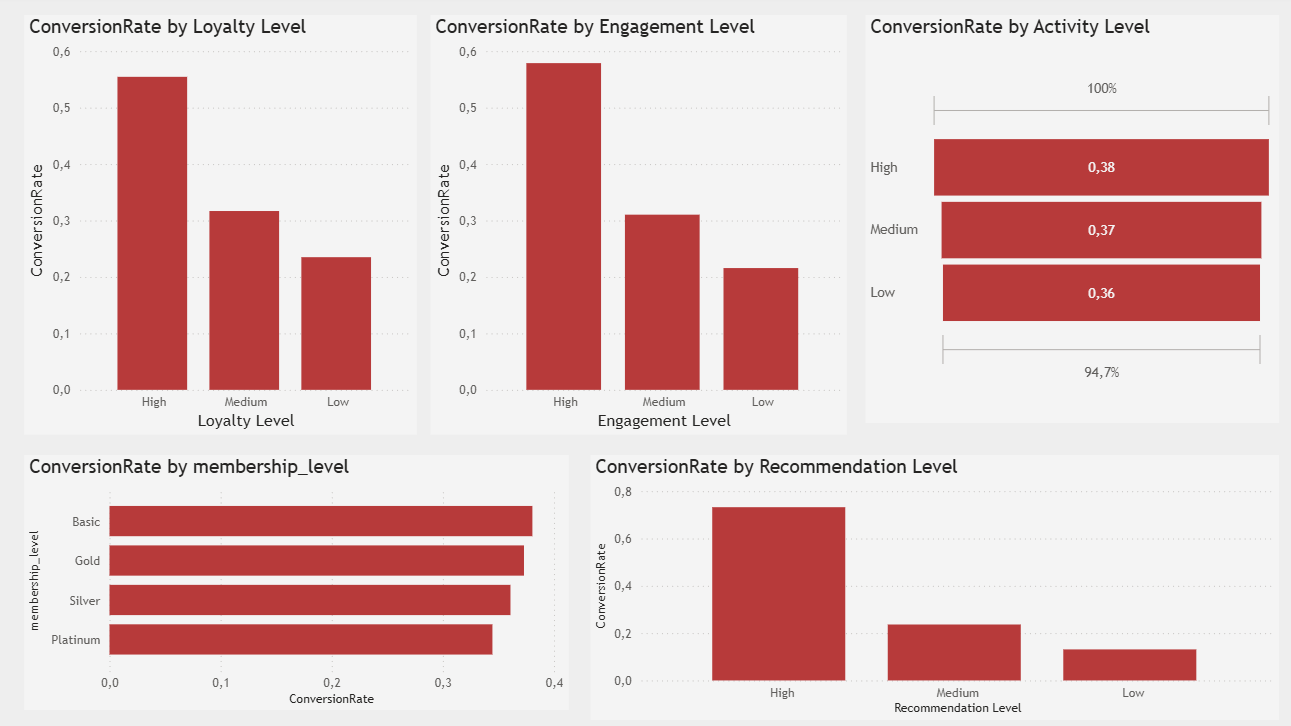

This screenshot's page, from the dashboard's own definition file:
{"tool":"powerbi","page":{"name":"Conversion Analysis","canvas":[1280,720],"ordinal":1},"visuals":[{"type":"clusteredColumnChart","fields":{"Category":["E-COMMERCE DATA.Engagement Level"],"Y":["E-COMMERCE DATA.ConversionRate"]},"box":[428.1,19.2,407.5,410.3],"z":0},{"type":"clusteredColumnChart","fields":{"Y":["E-COMMERCE DATA.ConversionRate"],"Category":["E-COMMERCE DATA.Loyalty Level"]},"box":[30.2,19.2,384.2,410.3],"z":1000},{"type":"clusteredBarChart","fields":{"Y":["E-COMMERCE DATA.ConversionRate"],"Category":["E-COMMERCE DATA.membership_level"]},"box":[30.2,450.1,532.4,249.7],"z":2000},{"type":"clusteredColumnChart","fields":{"Category":["E-COMMERCE DATA.Recommendation Level"],"Y":["E-COMMERCE DATA.ConversionRate"]},"box":[584.6,450.1,673.8,259.3],"z":3000},{"type":"funnel","fields":{"Category":["E-COMMERCE DATA.Activity Level"],"Y":["E-COMMERCE DATA.ConversionRate"]},"box":[853.5,19.2,404.8,399.3],"z":4000}]}

Visuals, with their boxes in screenshot pixels (x1, y1, x2, y2), scaled from the page's 1280x720 canvas onto the 1291x726 screenshot:
clusteredColumnChart - E-COMMERCE DATA.Engagement Level x E-COMMERCE DATA.ConversionRate: 432, 19, 843, 433
clusteredColumnChart - E-COMMERCE DATA.ConversionRate x E-COMMERCE DATA.Loyalty Level: 30, 19, 418, 433
clusteredBarChart - E-COMMERCE DATA.ConversionRate x E-COMMERCE DATA.membership_level: 30, 454, 567, 706
clusteredColumnChart - E-COMMERCE DATA.Recommendation Level x E-COMMERCE DATA.ConversionRate: 590, 454, 1269, 715
funnel - E-COMMERCE DATA.Activity Level x E-COMMERCE DATA.ConversionRate: 861, 19, 1269, 422
